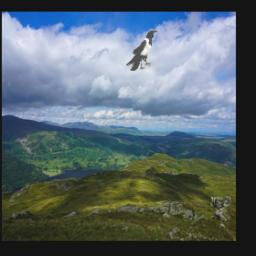Crow: (126, 30, 158, 71)
